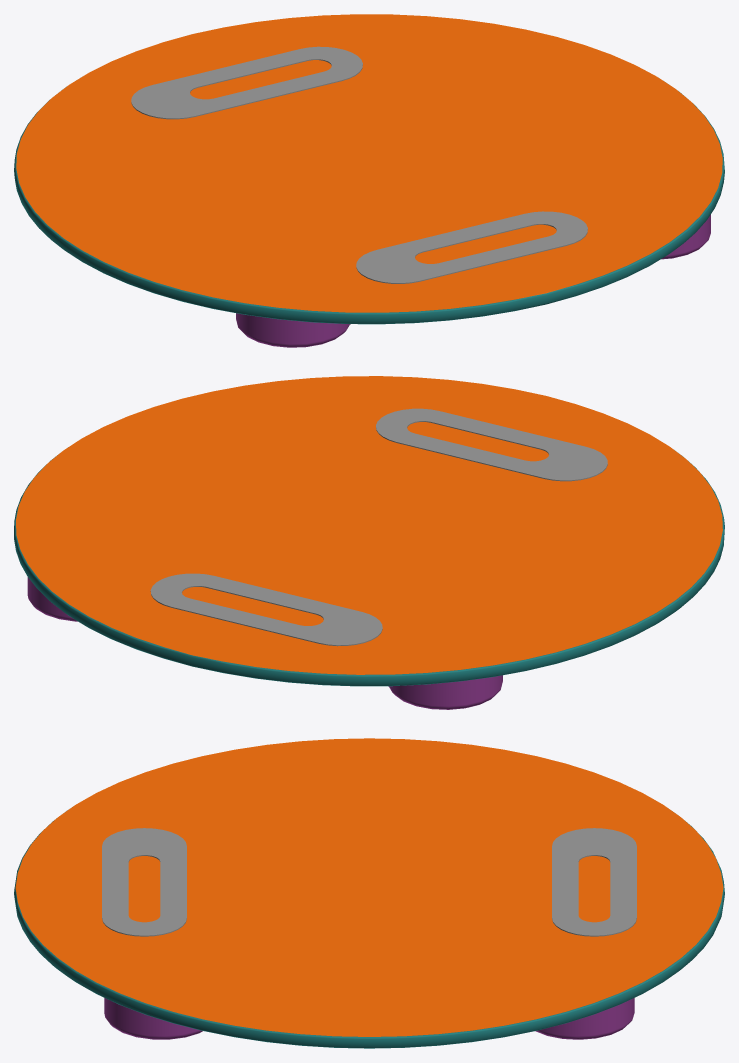
3 renders of one model, top to bottom at view 1: azimuth 30°, elevation 25°; view 2: azimuth 150°, elevation 25°; view 3: azimuth 270°, elevation 25°, orthographic.
Visible parts, largest first — view 1: 839; view 2: 839; view 3: 839.
Boxes of the visible parts, box(x1,y1,x2,y2) form: 839: box(14, 14, 724, 347); 839: box(14, 376, 724, 709); 839: box(14, 738, 724, 1048).
Size of the model in its own units: 33.49 by 2.69 by 33.5.
